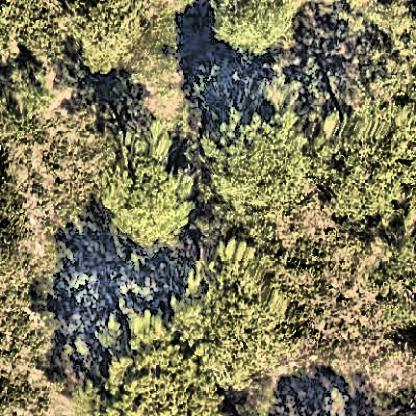tree-top: (168, 246, 309, 383), (96, 314, 231, 416), (92, 122, 200, 242), (316, 99, 416, 224), (202, 111, 314, 221), (73, 3, 182, 74), (205, 1, 309, 54), (1, 296, 65, 367), (1, 3, 73, 64), (373, 247, 416, 328), (5, 67, 53, 137), (348, 1, 416, 47), (1, 365, 54, 416)
